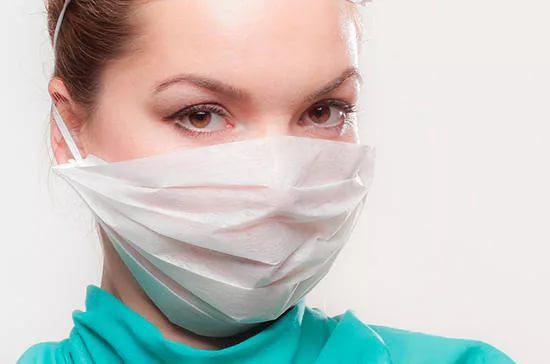mask: (61, 21, 383, 341)
